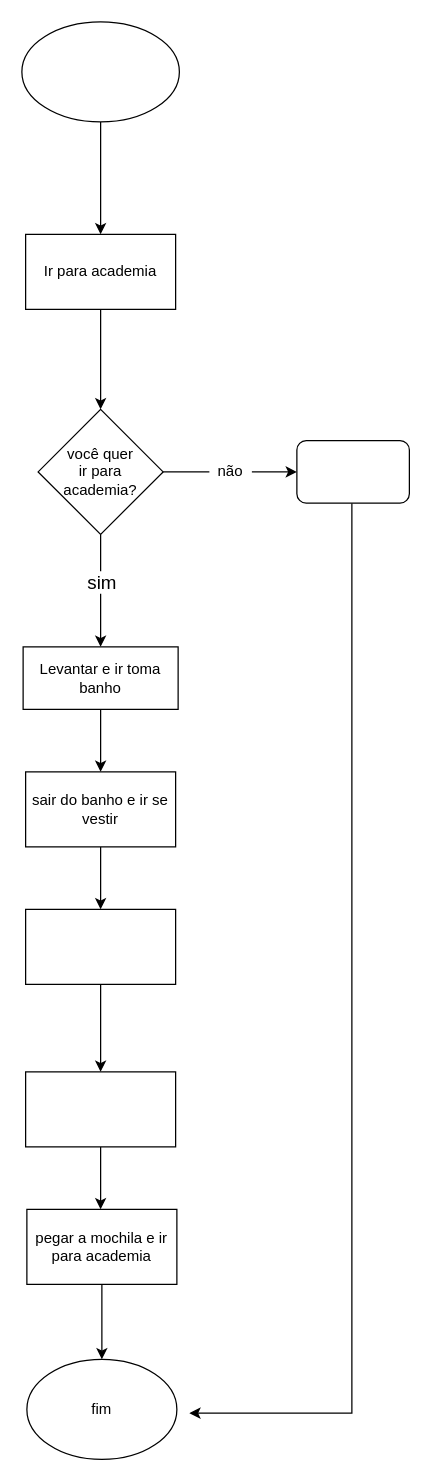
This 431x1481 diagram has some shape labels left out. Here are the shapes that lost their labels. From the top down, the centre of each, then its label:
At point (100, 71): "inicio".
At point (352, 471): "volta a dormir".
At point (100, 946): "arrumar a mochila com itens que irei levar".
At point (100, 1109): "ir para cozinha tomar café da manhã".
